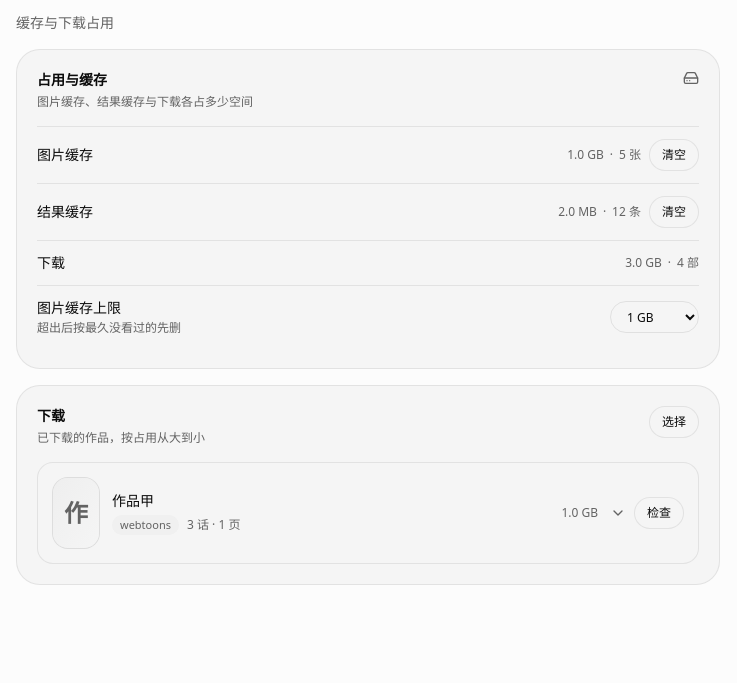
存储页的完整性检查 › 检查失败时给出错误文案，不假装正常
Expected: the text "作品甲" is shown, 112,491 -> 154,510
Click the button "作 作品甲 webtoons 3 话 · 1 页 1.0 GB" at (76, 513), box 52,477 -> 626,549
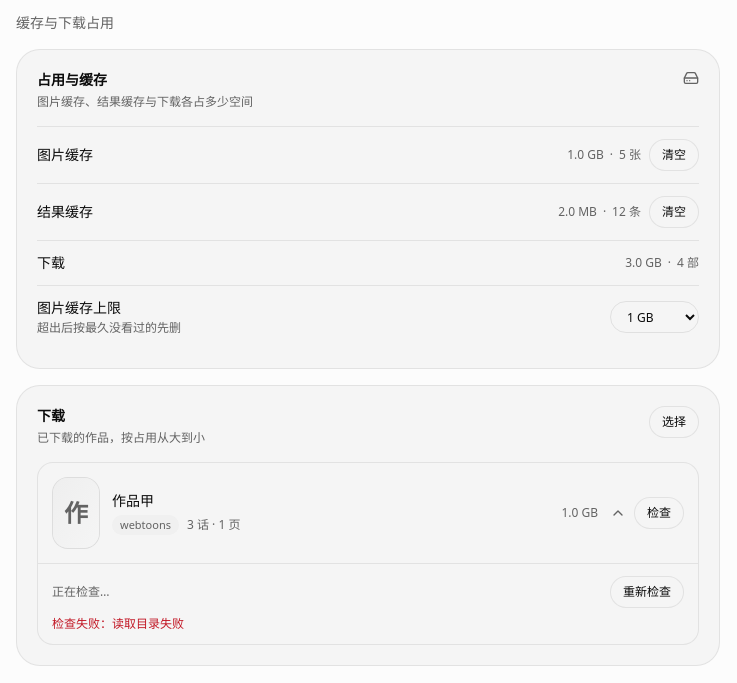
Expected: the text "检查失败：读取目录失败" is shown, 52,615 -> 184,632
